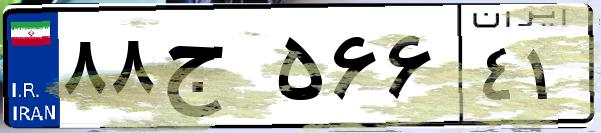1: (525, 38, 570, 115)
4: (475, 38, 525, 113)
5: (270, 28, 330, 110)
6: (385, 28, 445, 110), (330, 28, 385, 110)
8: (57, 26, 110, 100), (110, 28, 158, 98)
ج: (158, 20, 270, 120)
